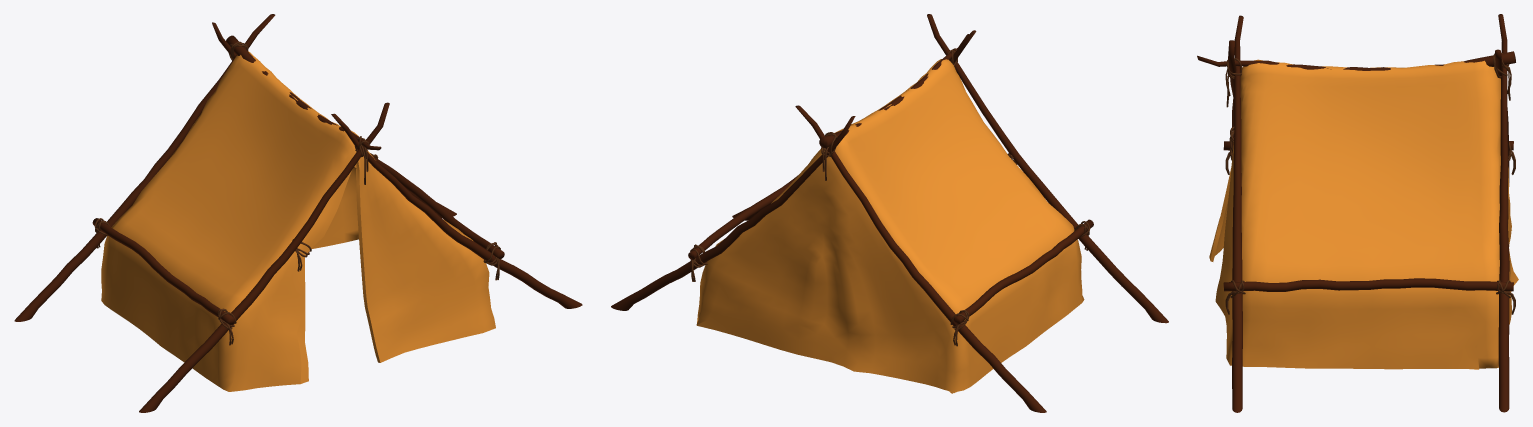
Rendered from TentOpen.fbx.
3 renders of one model, left to right at view 1: azimuth 30°, elevation 25°; view 2: azimuth 150°, elevation 25°; view 3: azimuth 270°, elevation 25°, orthographic. The views are drawn at different scales.
Parts seen in each view (by area): view 1: Tent003; view 2: Tent003; view 3: Tent003.
Boxes of the visible parts, x1,y1,x2,y2 form: Tent003: [14, 14, 582, 412]; Tent003: [611, 14, 1168, 412]; Tent003: [1197, 14, 1518, 412].
Size of the model in its own units: 4.18 by 2.45 by 2.28.
